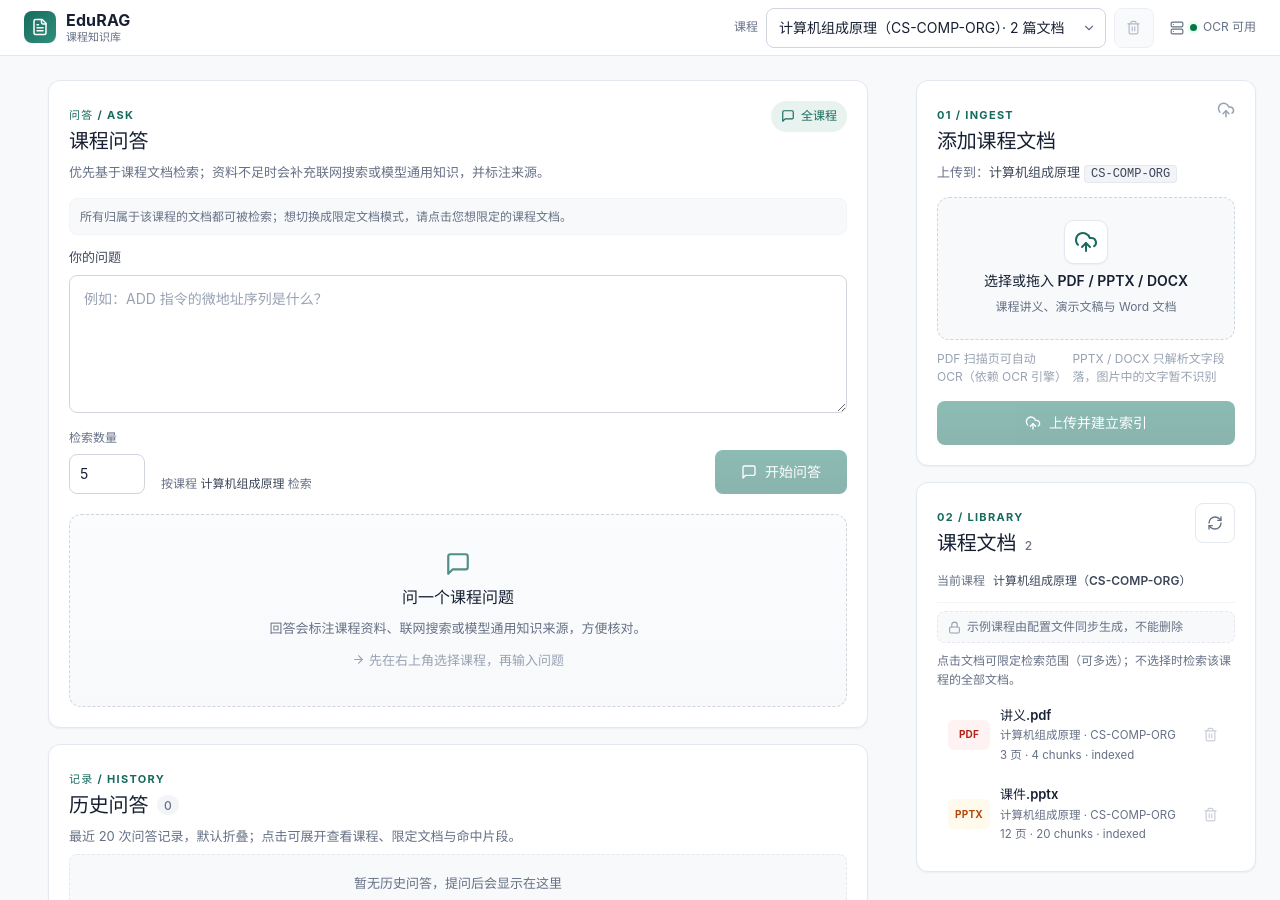
Test: EduRAG 前端工作流 › 问答失败（429）展示错误与 request_id，并提示稍后重试
Expected: the text "讲义.pdf" is shown, top-left (1000, 707), bottom-right (1051, 723)
Step 1. Type "这个问题" into the text box with placeholder "例如：ADD 指令的微地址序列是什么？" → (458, 344), box top-left (69, 275), bottom-right (847, 413)
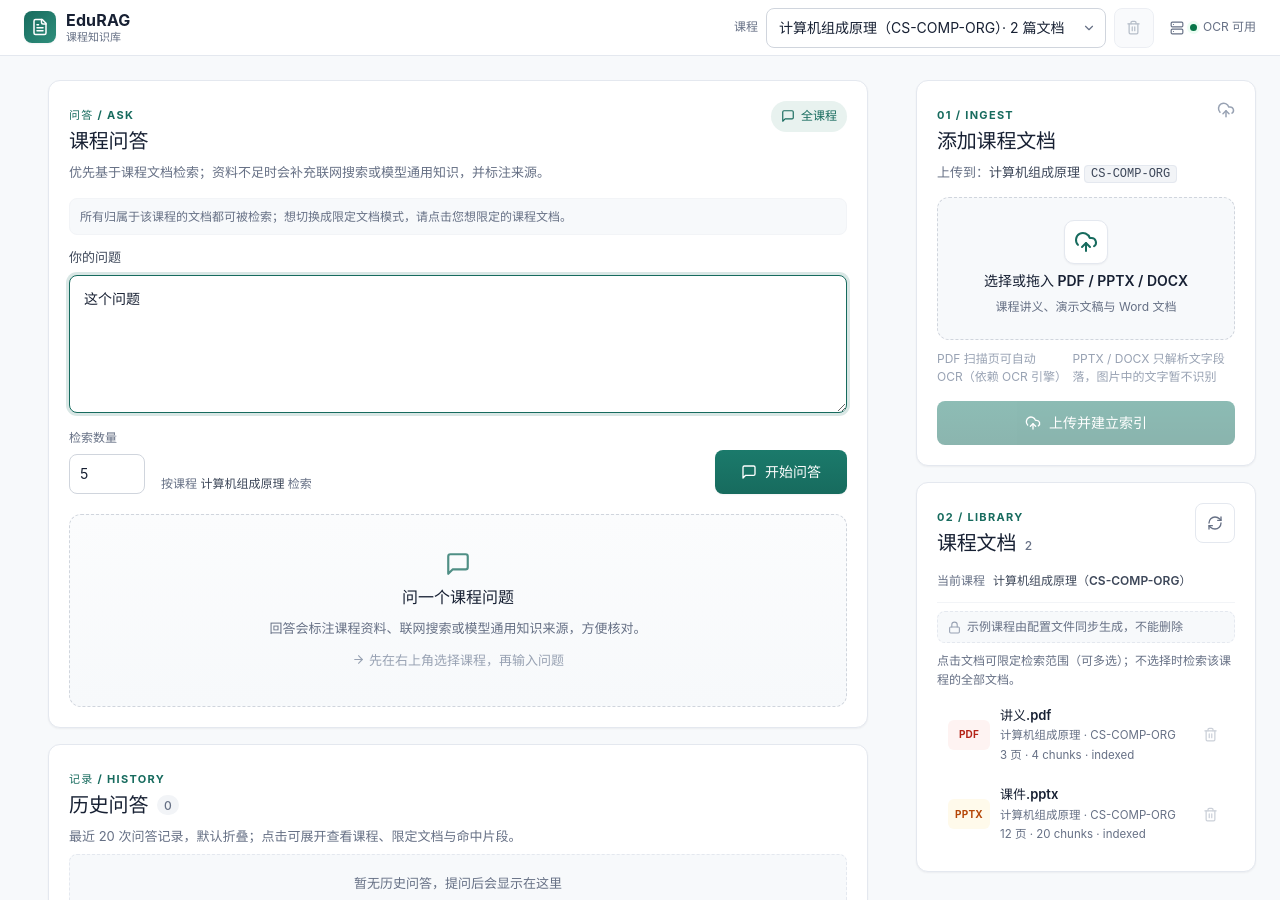
Step 2. Click the button "开始问答" → (781, 472), box top-left (715, 450), bottom-right (847, 494)
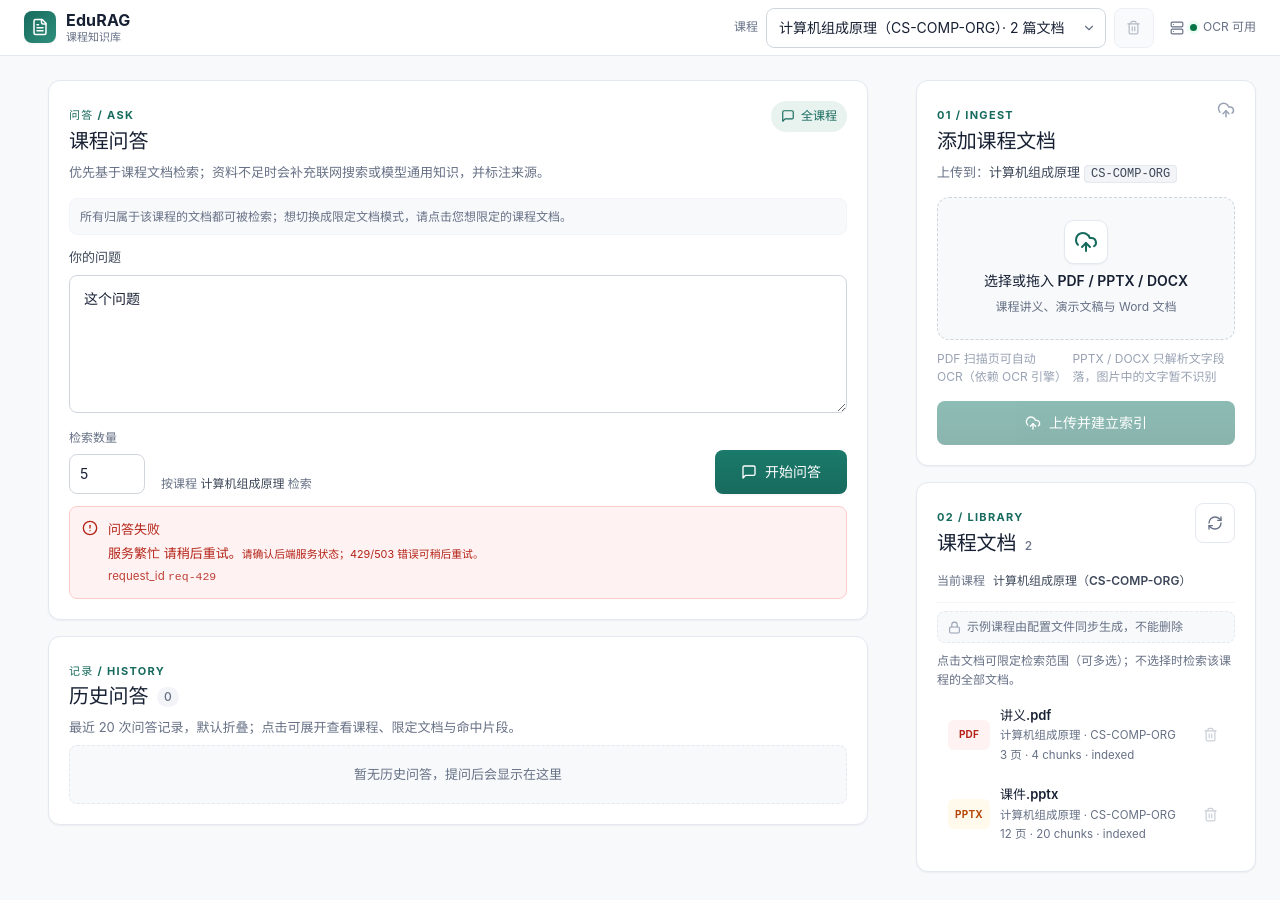
Result: the text "问答失败" is shown at top-left (108, 521), bottom-right (160, 537)
Result: the text "服务繁忙 请稍后重试。" is shown at top-left (108, 545), bottom-right (242, 561)
Result: the text "req-429" is shown at top-left (168, 570), bottom-right (216, 583)
